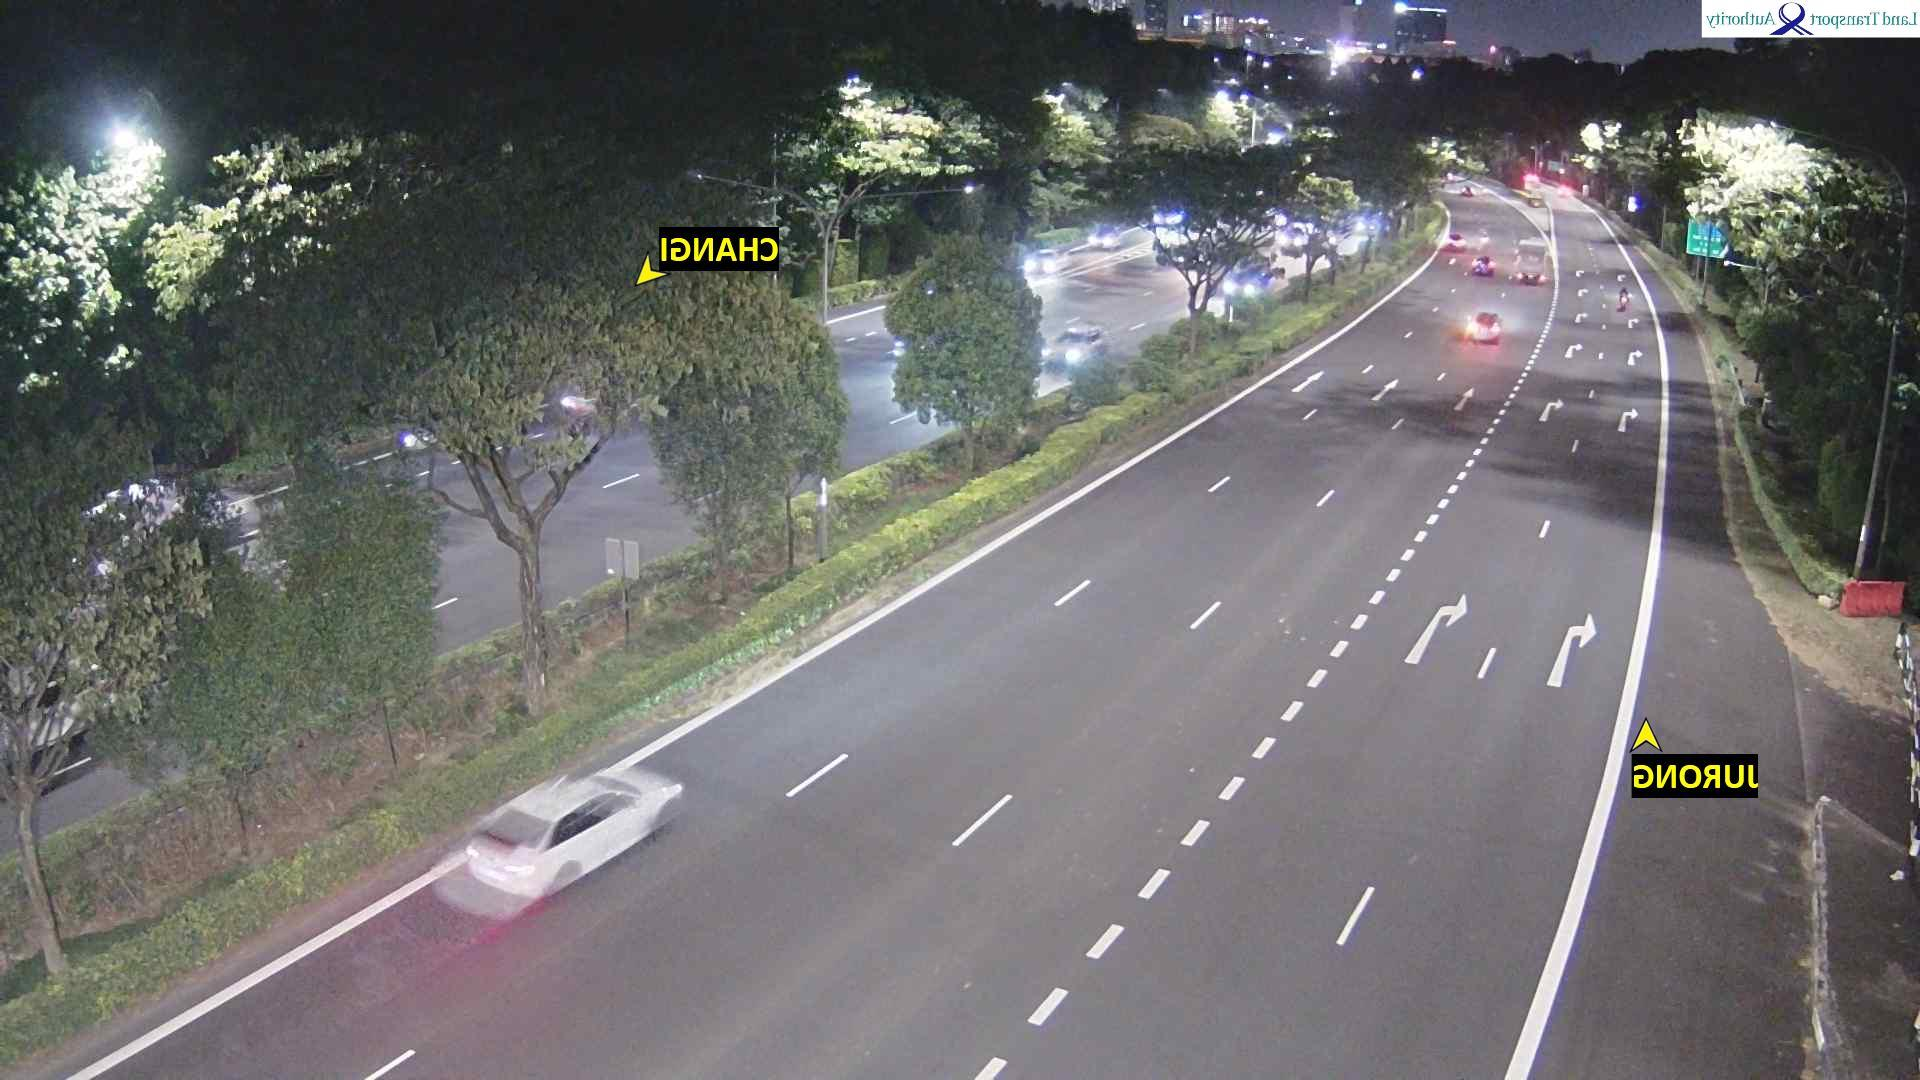cars: (464, 763, 687, 901), (3, 656, 102, 763), (83, 474, 249, 537), (1046, 324, 1107, 369), (1224, 260, 1287, 297), (1145, 190, 1195, 235), (1279, 220, 1320, 256), (1466, 310, 1504, 343), (1025, 246, 1067, 275), (397, 424, 438, 452), (560, 392, 599, 418), (1089, 222, 1122, 250), (1738, 378, 1766, 408), (1353, 217, 1379, 239), (1472, 254, 1496, 276), (1446, 230, 1467, 252), (1444, 168, 1468, 184), (1557, 180, 1578, 196), (1523, 171, 1541, 189), (1459, 185, 1476, 199)
motorcycle: (1613, 286, 1635, 315)
trucks: (1512, 237, 1554, 284)
